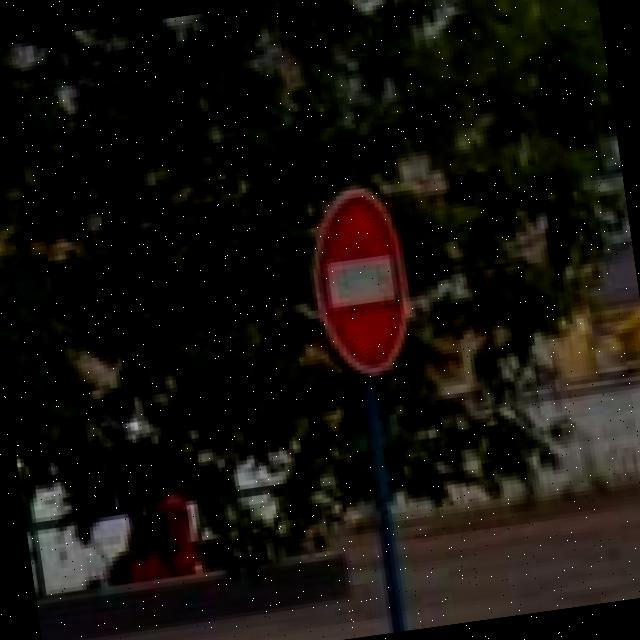Zakaz wjazdu: (302, 180, 420, 382)
